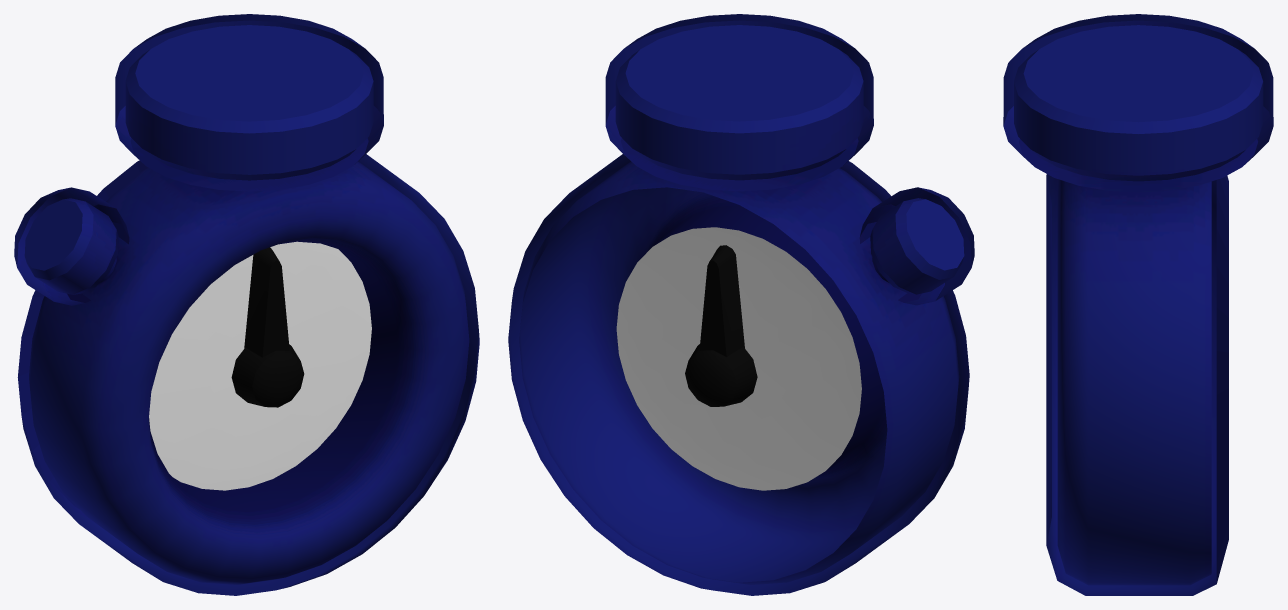
The model's file is clock-blue-50s.glb.
The picture shows the model from 3 angles, left to right: view 1: azimuth 30°, elevation 25°; view 2: azimuth 150°, elevation 25°; view 3: azimuth 270°, elevation 25°; orthographic projection.
Parts seen in each view (by area): view 1: clock-blue-60s; view 2: clock-blue-60s; view 3: clock-blue-60s.
Boxes of the visible parts, x1,y1,x2,y2 form: clock-blue-60s: (14,14,479,595); clock-blue-60s: (508,14,974,595); clock-blue-60s: (1003,14,1273,595).
Size of the model in its own units: 3.24 by 3.65 by 1.75.
Materials: 5 (5 with a texture image).
